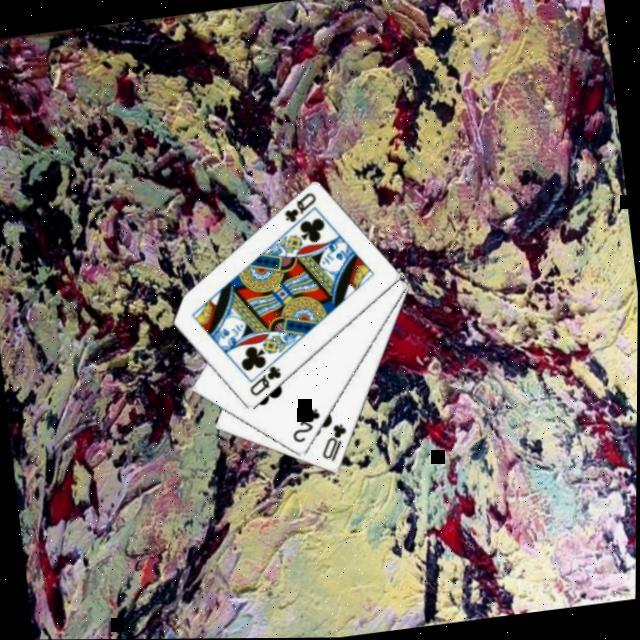10C: (317, 420, 354, 466)
2C: (287, 405, 327, 447)
QC: (279, 190, 322, 228), (245, 363, 287, 400)
